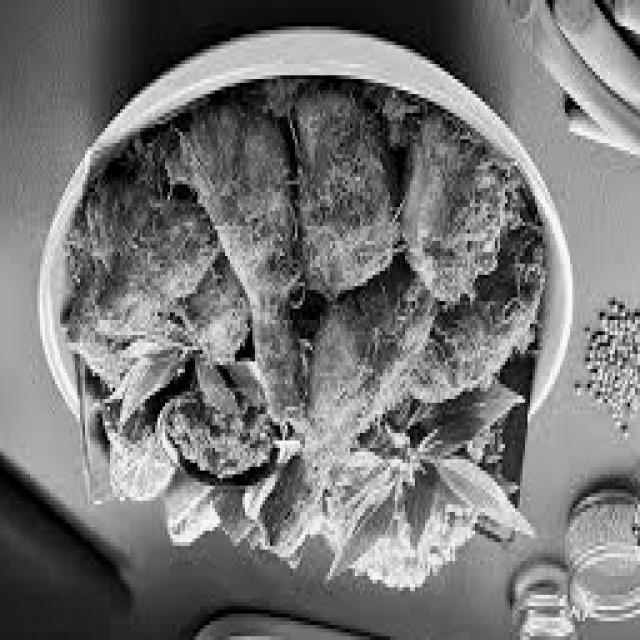ayam_goreng: (45, 85, 548, 578), (192, 99, 315, 425), (286, 298, 425, 550), (389, 258, 525, 404), (400, 122, 490, 302), (302, 106, 386, 294)
